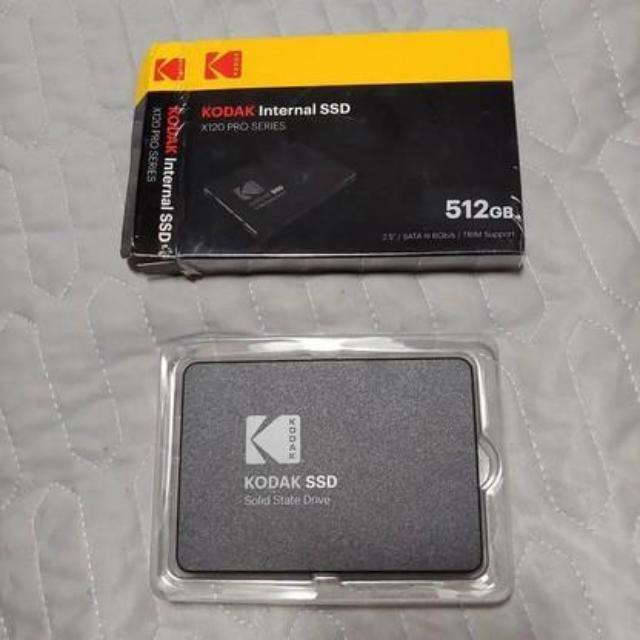DISK: (172, 344, 494, 588)
